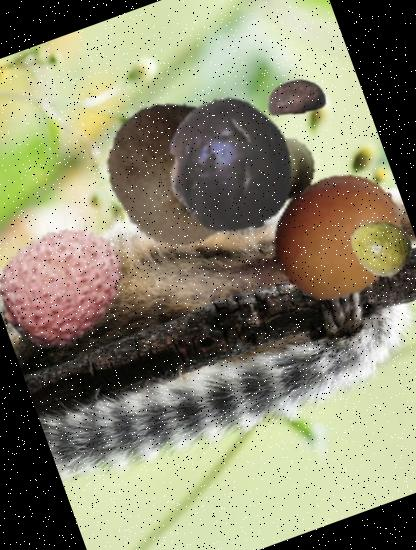Apricot: (252, 148, 416, 320)
Chestnut: (258, 57, 336, 136)
Guava: (340, 206, 416, 287)
Kiwi: (82, 82, 270, 270)
Lychee: (0, 200, 145, 367)
Passion: (140, 74, 319, 253)
Peach: (148, 83, 338, 272)
